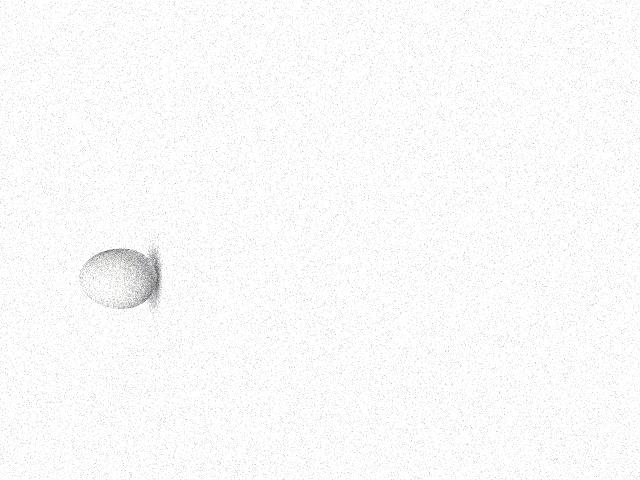egg: (78, 249, 156, 309)
